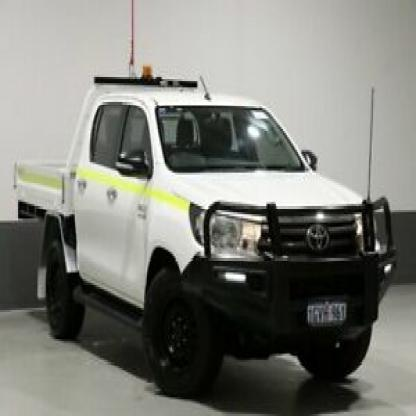light_vehicle: (4, 58, 393, 385)
